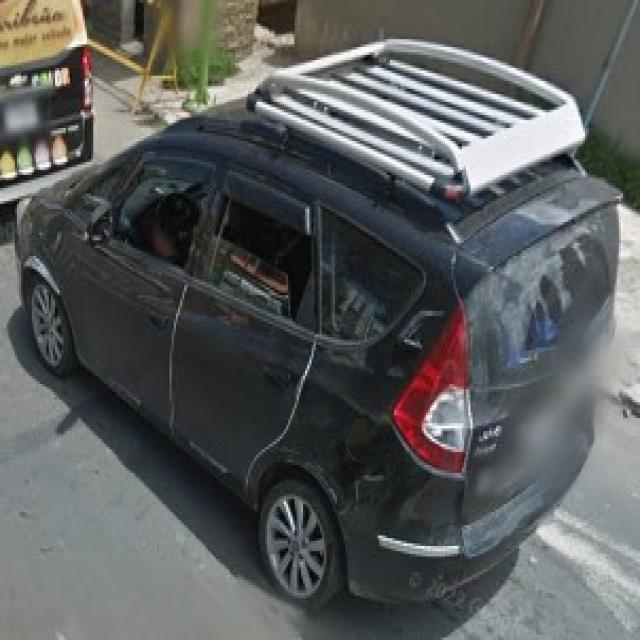cars: (17, 44, 630, 612)
